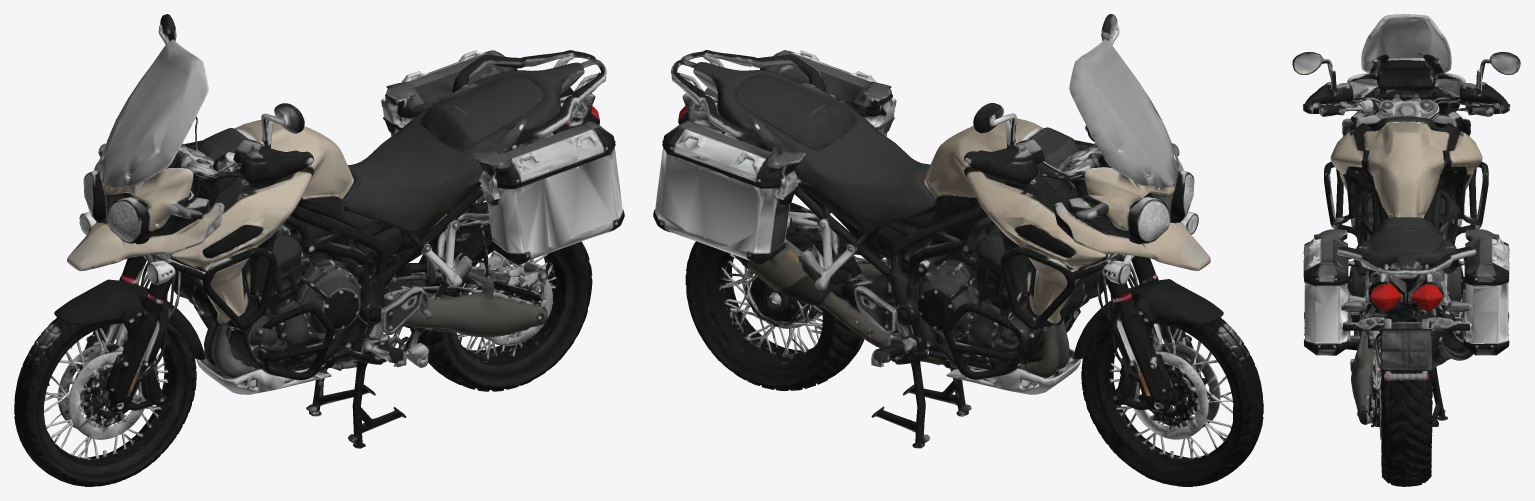
The model's file is atacama-1250-expedicao.glb.
3 renders of one model, left to right at view 1: azimuth 30°, elevation 25°; view 2: azimuth 150°, elevation 25°; view 3: azimuth 270°, elevation 25°, orthographic. The views are drawn at different scales.
Bounding box in the file's own units: 1.9 × 1.31 × 0.789.
1 material, 1 textured.
